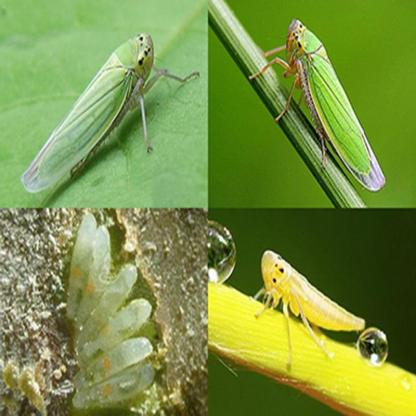Green-Leafhopper: (22, 28, 201, 210), (250, 16, 388, 194), (251, 252, 367, 380)
